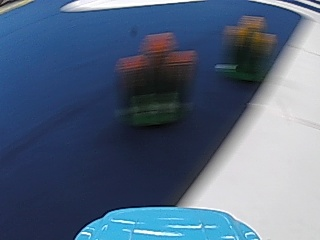corn: (122, 27, 188, 130), (222, 12, 273, 79)
